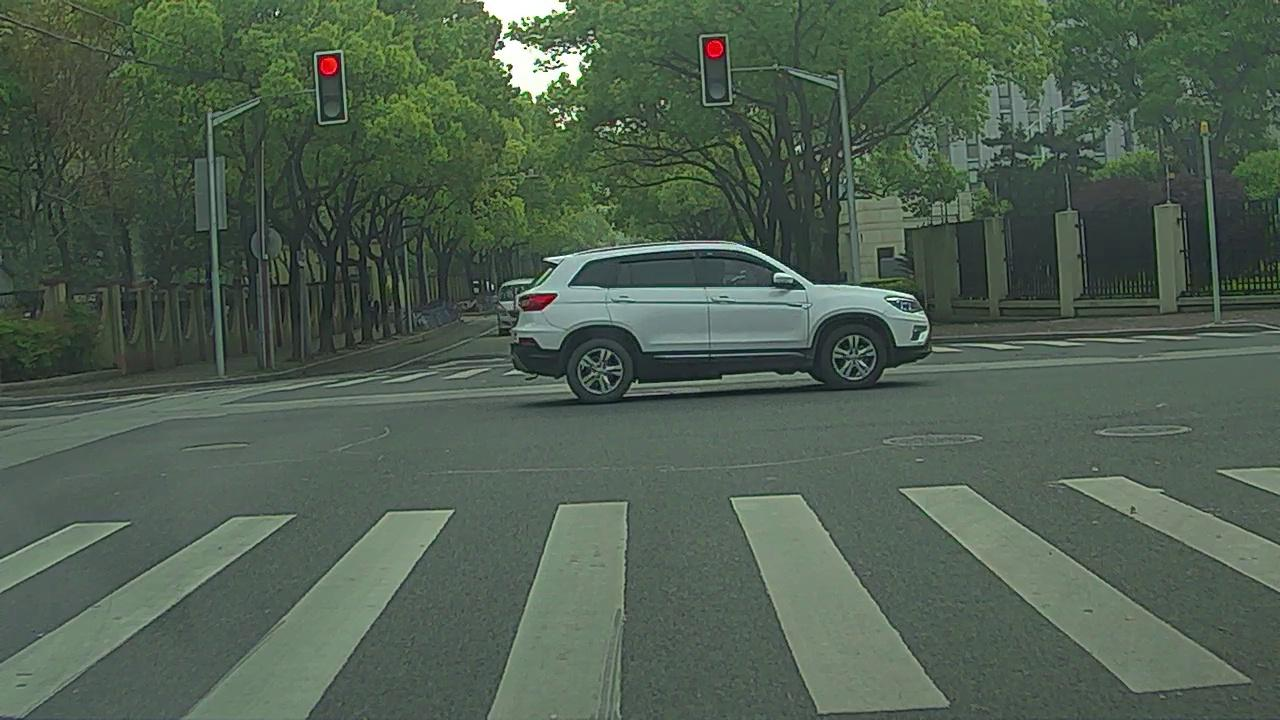traffic_light: (319, 52, 344, 120), (706, 38, 729, 102)
